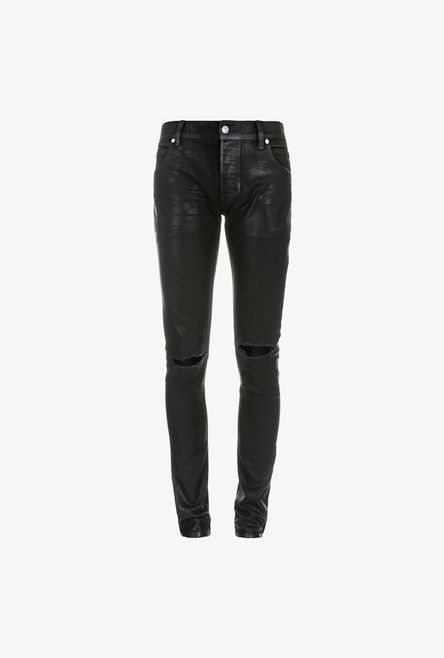jeans: (106, 107, 318, 552)
